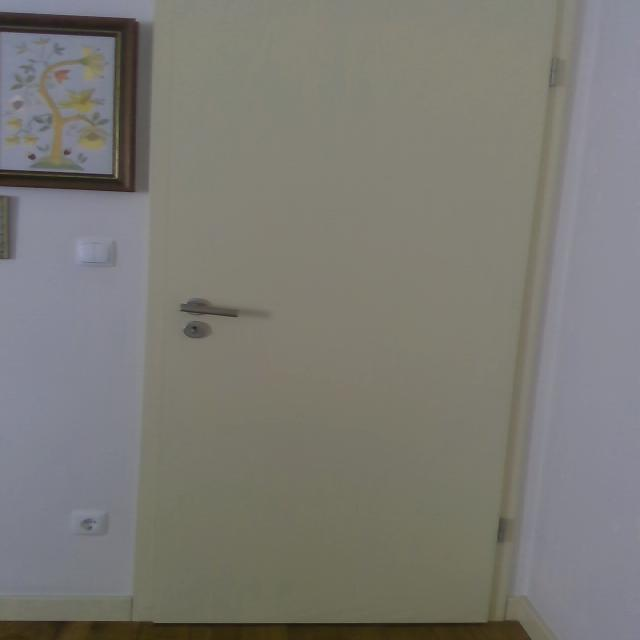door: (131, 0, 573, 625)
